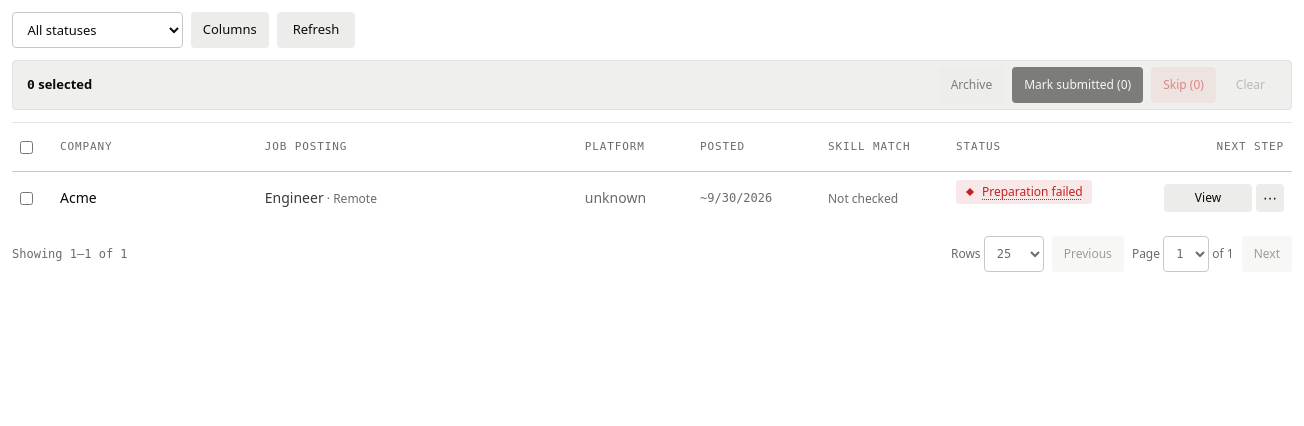
Test: ApplicationsTable ready rows and long text › puts a failed row's error on its status chip, shown on hover
Click the button named "More actions for Acme Engineer" at (1270, 198), box top-left (1256, 184), bottom-right (1284, 212)
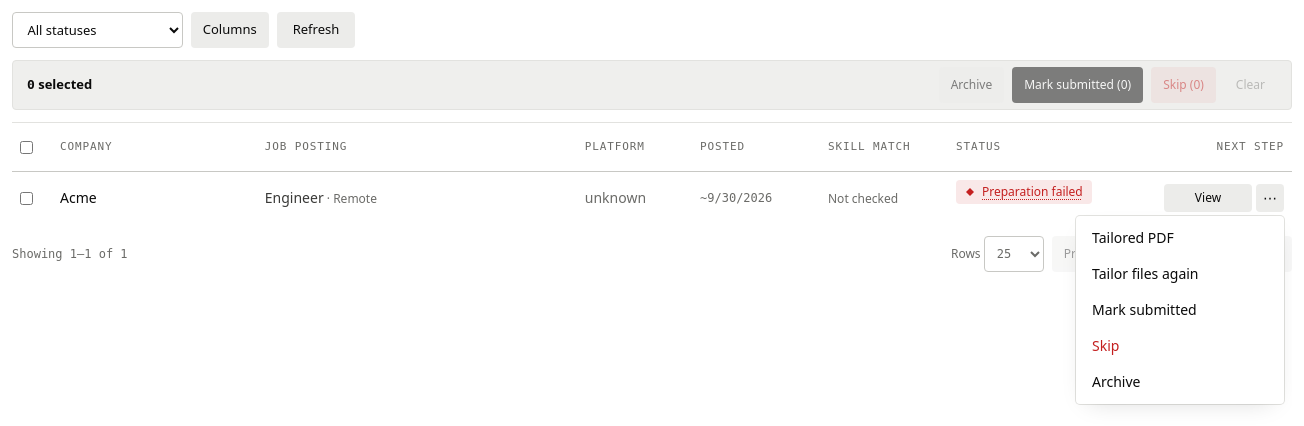
Press Escape
Hover over the button "Preparation failed" at (1024, 198), box top-left (956, 180), bottom-right (1092, 216)
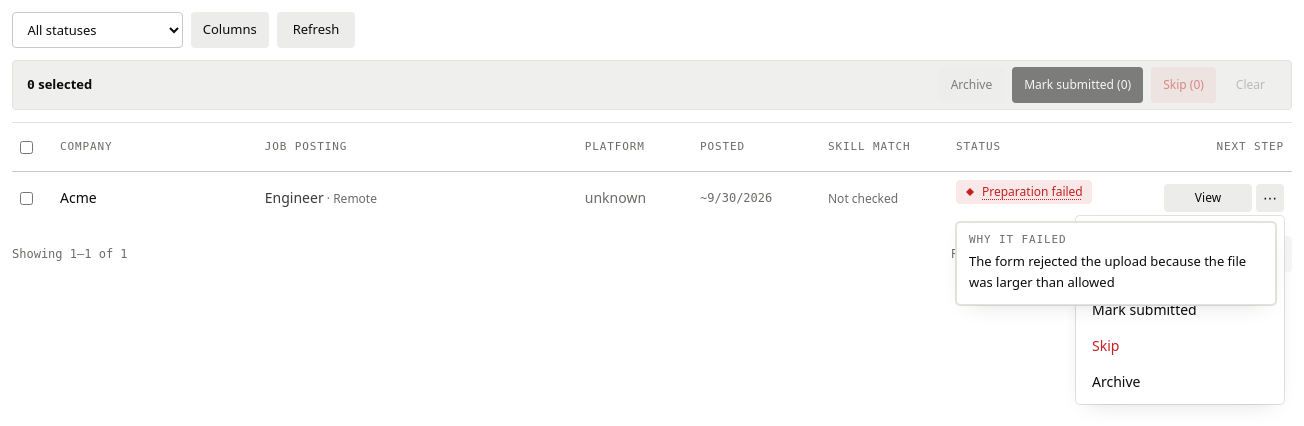
expect the tooltip shows "The form rejected the upload because the file was larger than allowed": met, box top-left (969, 252), bottom-right (1250, 291)
Move the pointer off the button "Preparation failed", box top-left (956, 180), bottom-right (1092, 216)
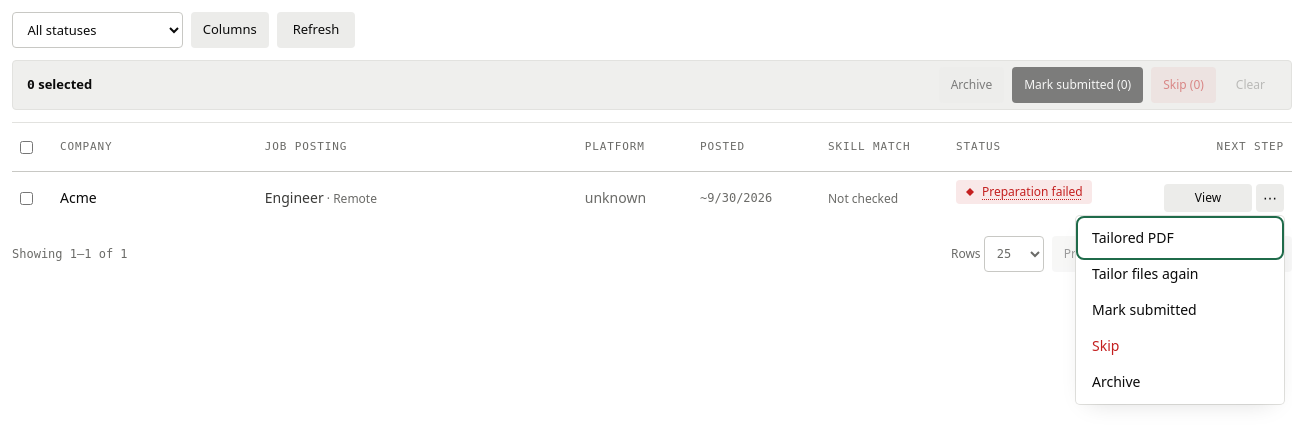
expect the tooltip is gone: met
